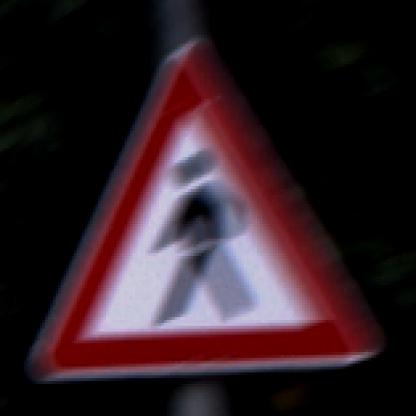crosswalk: (38, 36, 378, 382)
